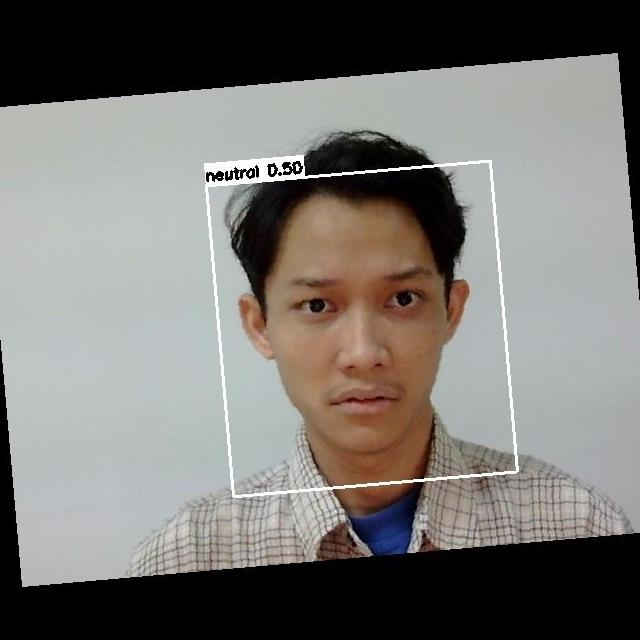Fear: (256, 248, 469, 422)
